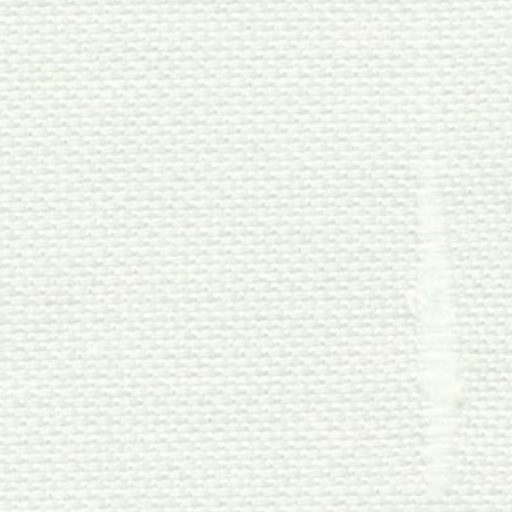DaiSha: (394, 60, 473, 484)
